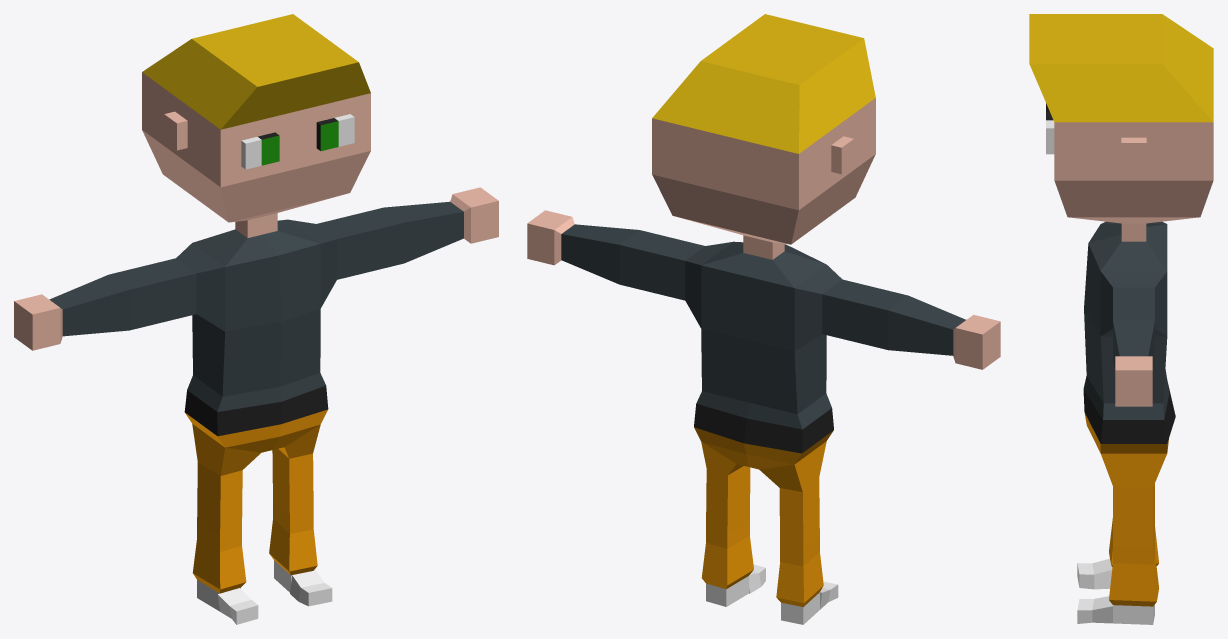
The model's file is pedestrianBlondeBlack.gltf.
3 views of the same model, side by side, from view 1: azimuth 30°, elevation 25°; view 2: azimuth 150°, elevation 25°; view 3: azimuth 270°, elevation 25° (orthographic). The views are drawn at different scales.
Visible parts, largest first — view 1: pedestrian blonde green eyes; view 2: pedestrian blonde green eyes; view 3: pedestrian blonde green eyes.
Part boxes in pixels (<box>): pedestrian blonde green eyes: <box>14,14,498,624</box>; pedestrian blonde green eyes: <box>527,14,1000,624</box>; pedestrian blonde green eyes: <box>1029,14,1213,624</box>.
Bounding box in the file's own units: 1.29 × 1.47 × 0.437.
Materials: 1 (1 with a texture image).
